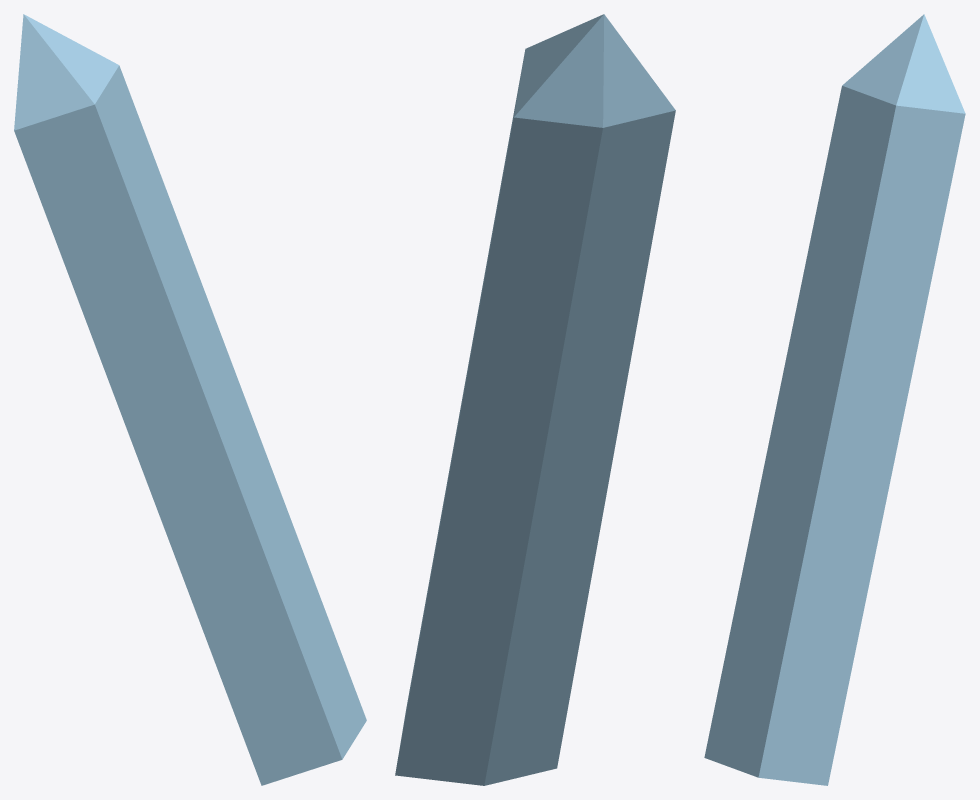
Rendered from Mossy Gem.fbx.
3 views of the same model, side by side, from view 1: azimuth 30°, elevation 25°; view 2: azimuth 150°, elevation 25°; view 3: azimuth 270°, elevation 25° (orthographic). The views are drawn at different scales.
Visible parts, largest first — view 1: pCylinder12; view 2: pCylinder12; view 3: pCylinder12.
Boxes of the visible parts, x1,y1,x2,y2 form: pCylinder12: (14, 14, 366, 785); pCylinder12: (395, 14, 675, 785); pCylinder12: (704, 14, 965, 785).
Size of the model in its own units: 0.2779 by 0.6766 by 0.2361.
